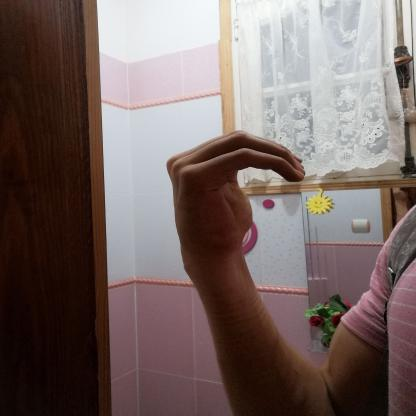HAA: (148, 118, 324, 273)
